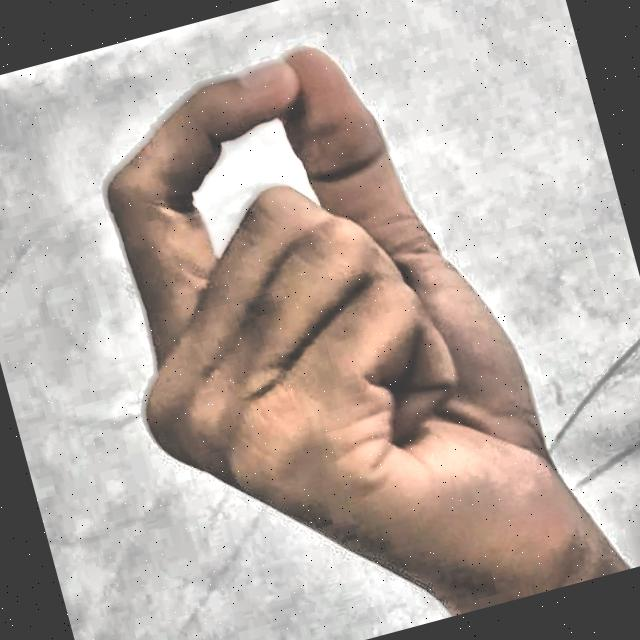Gha: (35, 0, 640, 640)
